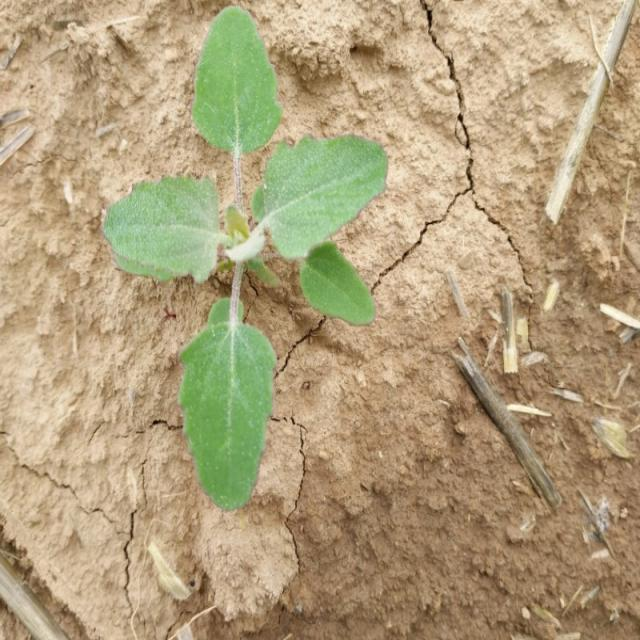ca: (108, 11, 388, 509)
